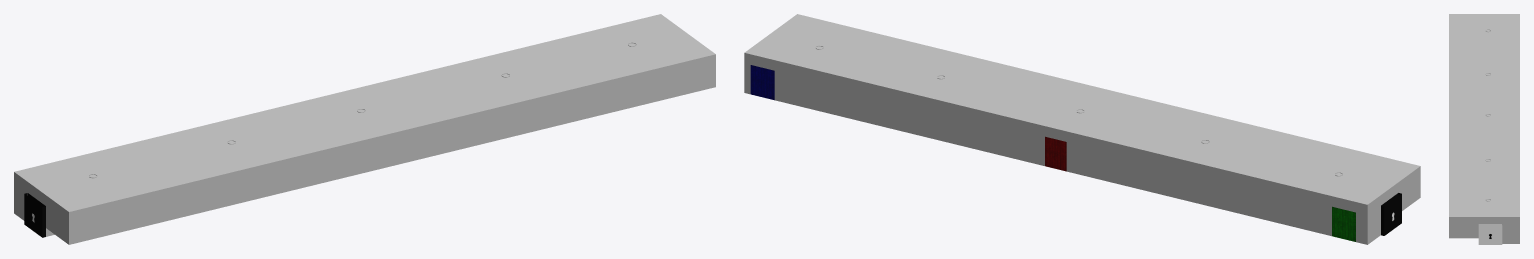
The model's file is saFinished.fbx.
3 views of the same model, side by side, from view 1: azimuth 30°, elevation 25°; view 2: azimuth 150°, elevation 25°; view 3: azimuth 270°, elevation 25° (orthographic). The views are drawn at different scales.
Visible parts, largest first — view 1: startingArea, blackDoor; view 2: startingArea, blueDoor, greenDoor, blackDoor, redDoor; view 3: startingArea, whiteDoor.
Boxes of the visible parts, x1,y1,x2,y2 form: startingArea: (14,14,715,244); blackDoor: (24,193,45,237); startingArea: (744,14,1420,244); blueDoor: (750,65,774,100); greenDoor: (1332,206,1355,241); blackDoor: (1381,193,1401,235); redDoor: (1045,136,1066,171); startingArea: (1449,14,1519,243); whiteDoor: (1478,224,1502,244).
Bounding box in the file's own units: 131 × 8.35 × 19.15.
